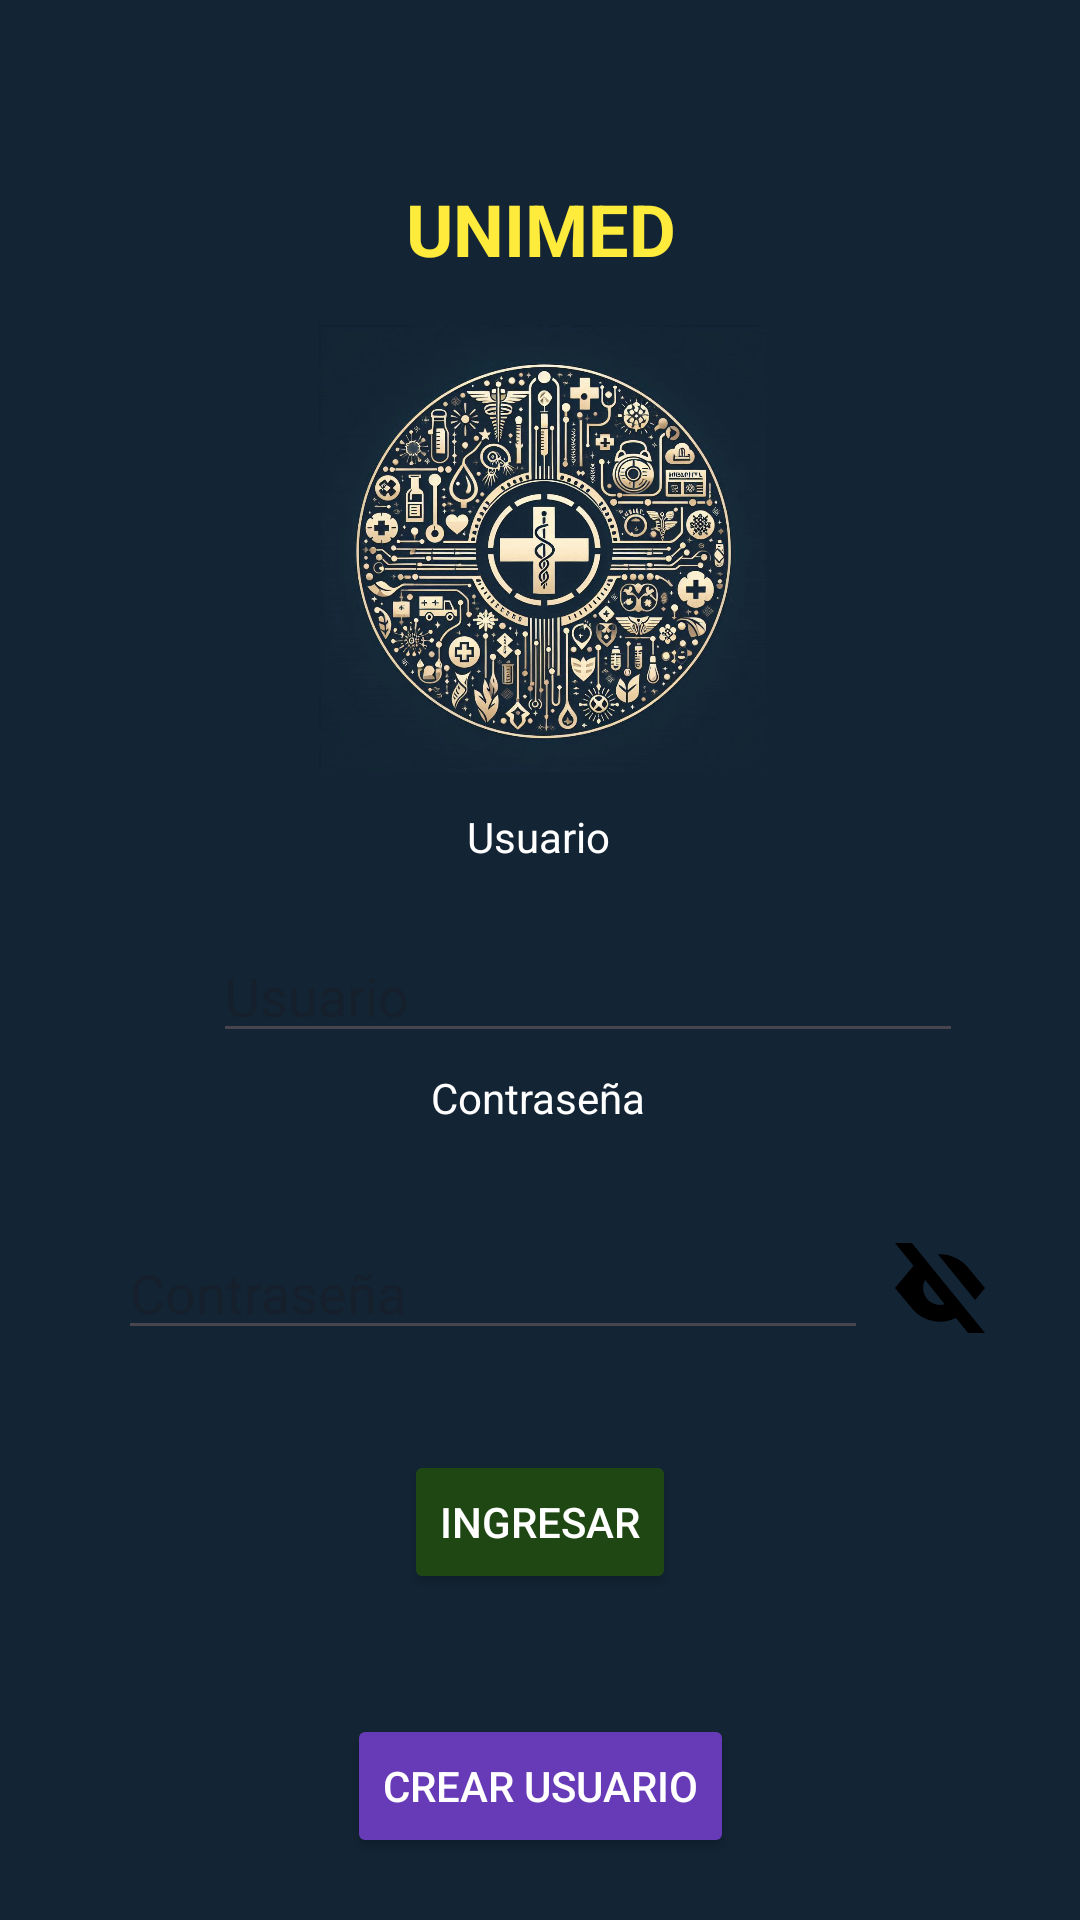

Named icons in this screenshot (1080px×1920px) and their centers, [x,y]:
eye closed: [940,1288]
